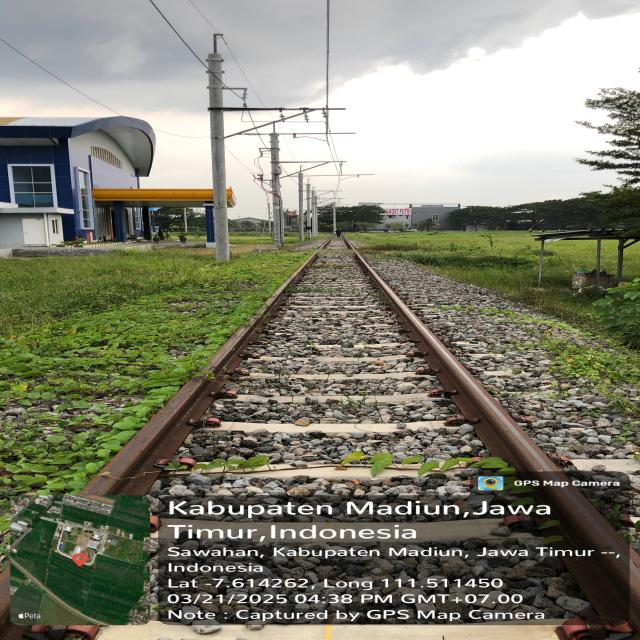rail-detection: (355, 252, 640, 619), (80, 255, 315, 496)
